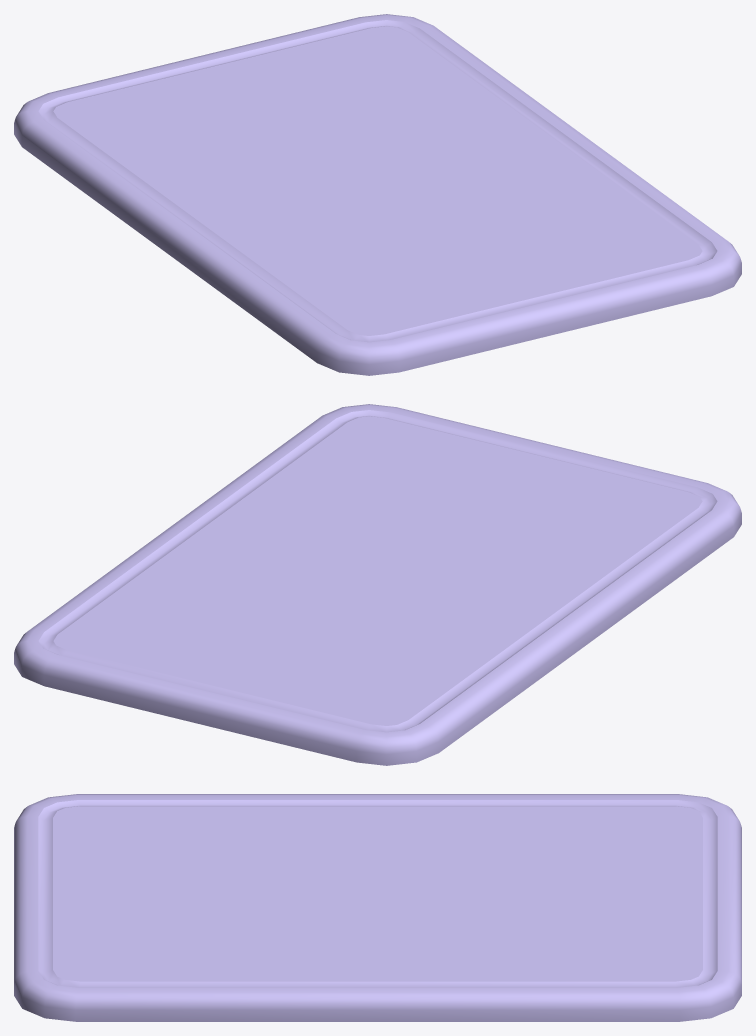
The model's file is Tapis1.fbx.
3 renders of one model, top to bottom at view 1: azimuth 30°, elevation 25°; view 2: azimuth 150°, elevation 25°; view 3: azimuth 270°, elevation 25°, orthographic. The views are drawn at different scales.
Visible parts, largest first — view 1: Tapis1; view 2: Tapis1; view 3: Tapis1.
Boxes of the visible parts, x1,y1,x2,y2 form: Tapis1: [14, 14, 741, 375]; Tapis1: [14, 404, 741, 765]; Tapis1: [14, 794, 741, 1021].
Size of the model in its own units: 93.2 by 138 by 4.95.
